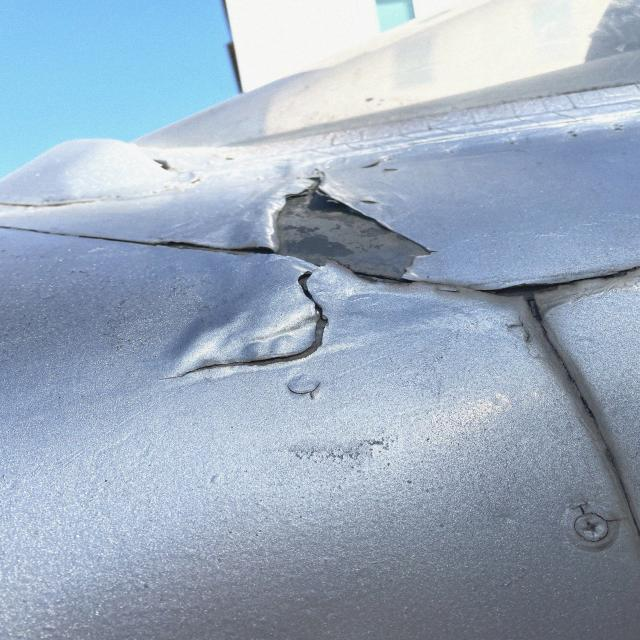crack: (163, 343, 319, 372), (569, 504, 619, 546), (283, 386, 332, 410)
